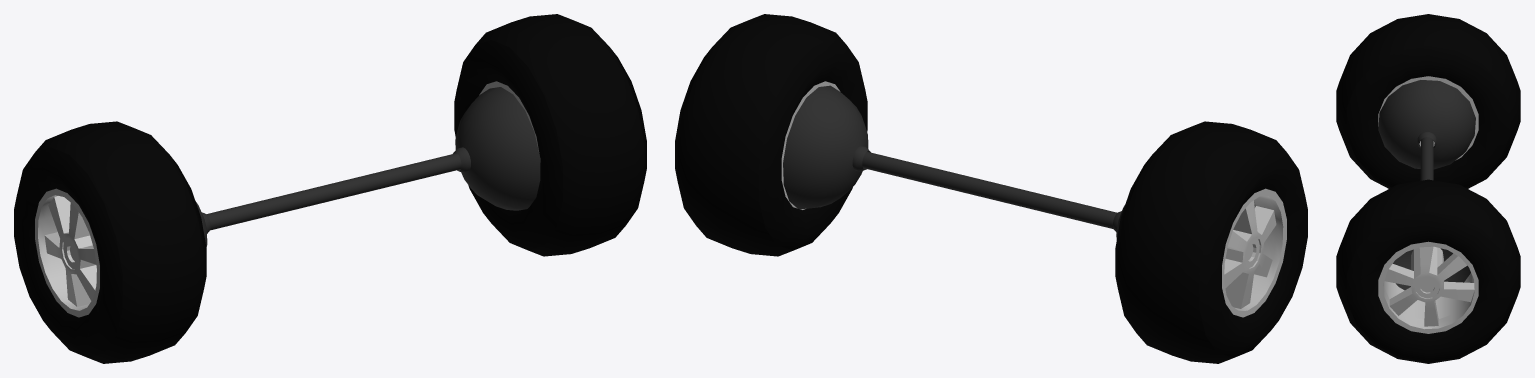
File: carrobackwheels.dae
The picture shows the model from 3 angles, left to right: view 1: azimuth 30°, elevation 25°; view 2: azimuth 150°, elevation 25°; view 3: azimuth 270°, elevation 25°; orthographic projection. The views are drawn at different scales.
Parts seen in each view (by area): view 1: LLanta_3, Llanta_4, Llanta_4_tubo, Llanta_3_rin, Tubo_trasero; view 2: LLanta_3, Llanta_4, Llanta_4_tubo, Llanta_3_rin, Tubo_trasero; view 3: Llanta_4, LLanta_3, Llanta_4_rin, Llanta_3_tubo, Llanta_3_rin, Llanta_4_tubo, Tubo_trasero.
Part boxes in pixels (x1,y1,x2,y2): LLanta_3: (14,121,206,363); Llanta_4: (454,14,646,256); Llanta_4_tubo: (453,87,540,210); Llanta_3_rin: (35,188,99,317); Tubo_trasero: (206,153,461,230); LLanta_3: (1115,121,1307,363); Llanta_4: (675,14,867,256); Llanta_4_tubo: (783,85,870,209); Llanta_3_rin: (1222,188,1286,317); Tubo_trasero: (862,151,1117,228); Llanta_4: (1336,179,1520,363); LLanta_3: (1336,14,1520,188); Llanta_4_rin: (1378,241,1478,333); Llanta_3_tubo: (1378,80,1475,169); Llanta_3_rin: (1378,76,1478,160); Llanta_4_tubo: (1393,248,1470,290); Tubo_trasero: (1420,137,1433,180).
Size of the model in its own units: 0.8889 by 0.3387 by 0.3439.
Materials: 3 (3 with a texture image).
